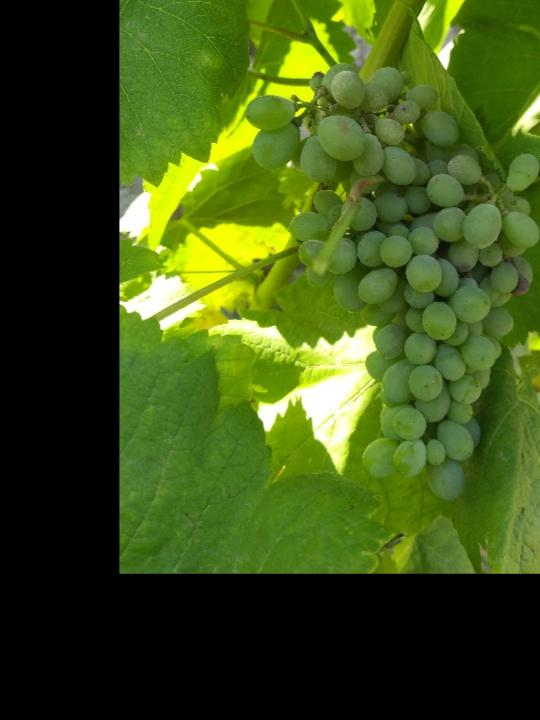grape: (239, 61, 540, 506)
